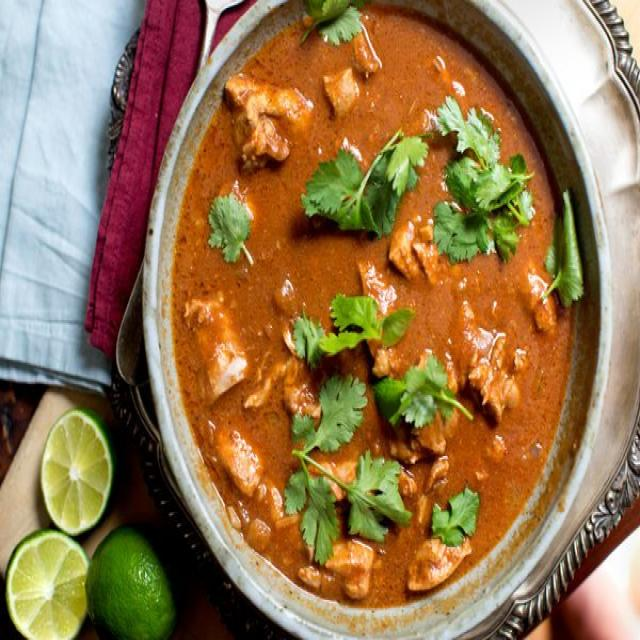Butter Chicken: (172, 0, 576, 610)
